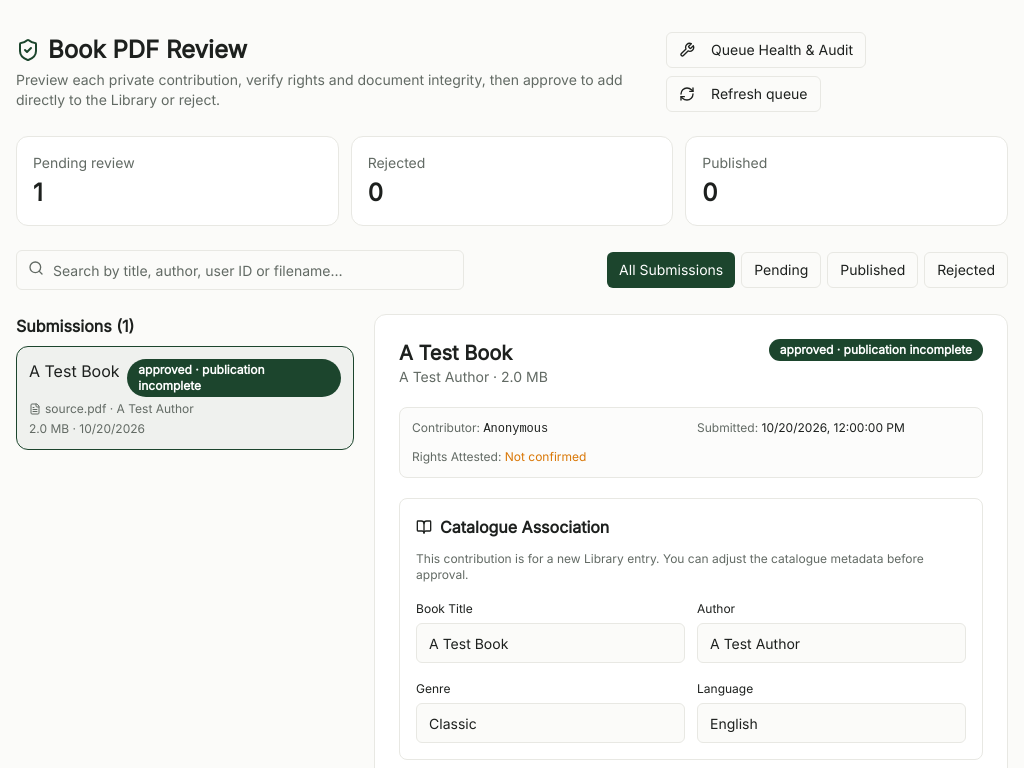
Test: AdminBookPdfReviews › keeps approved-but-unpublished submissions in Pending and offers a publication retry
Click the button "Pending" at (781, 270), box [741, 252, 821, 288]
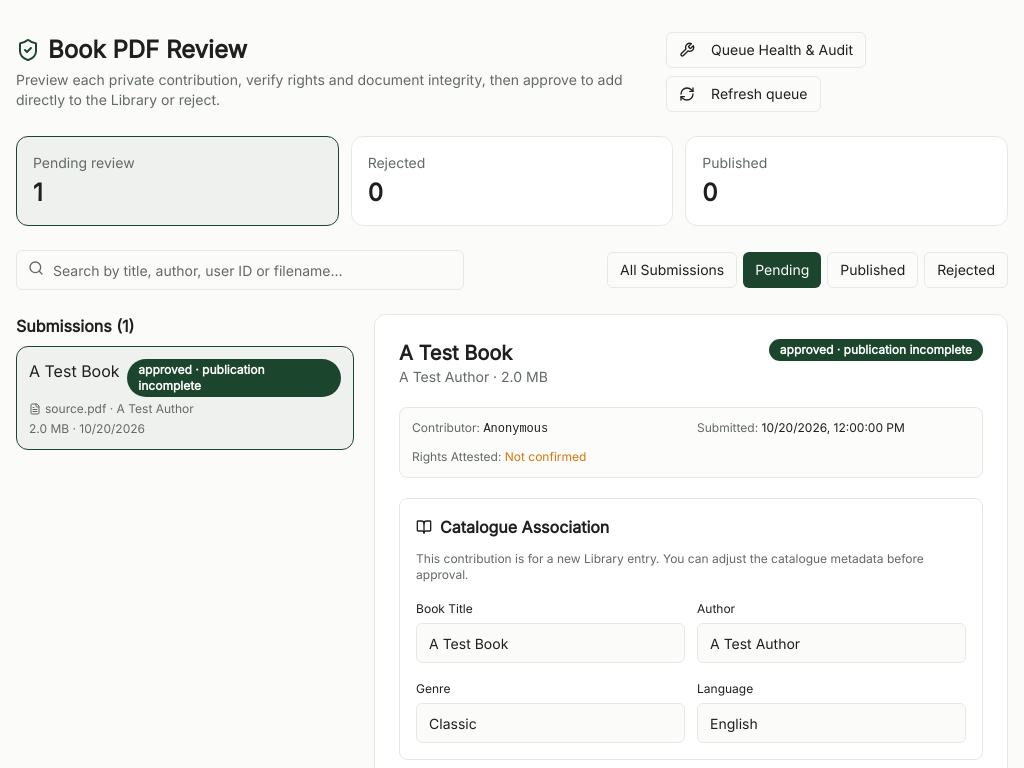
Expected: the 2nd text "approved · publication incomplete" is shown, [127, 359, 341, 397]
Click the button "Published" at (873, 270), box [827, 252, 918, 288]
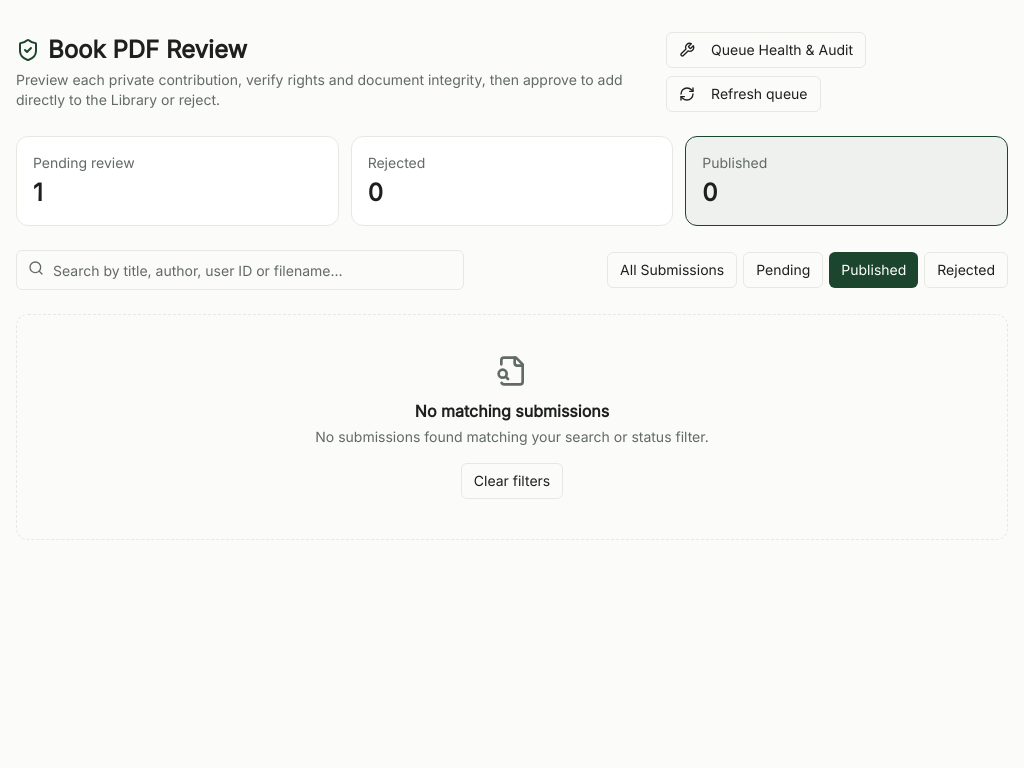
Now the heading "No matching submissions" is shown, box [415, 401, 609, 421]
